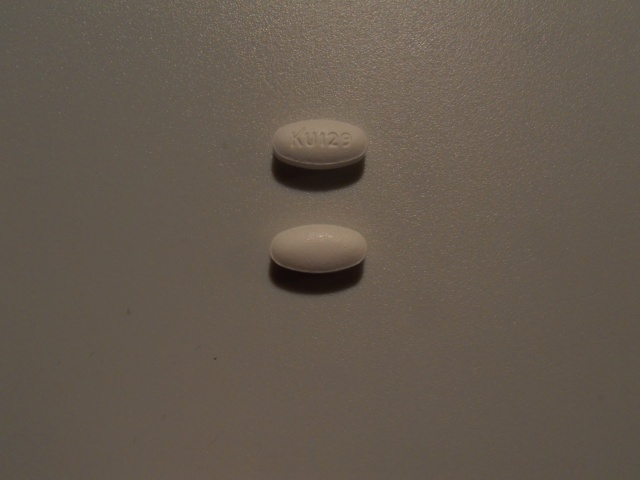1: (320, 129, 326, 148)
2: (326, 130, 340, 149)
9: (340, 131, 351, 150)
K: (290, 127, 308, 149)
U: (304, 128, 319, 148)
